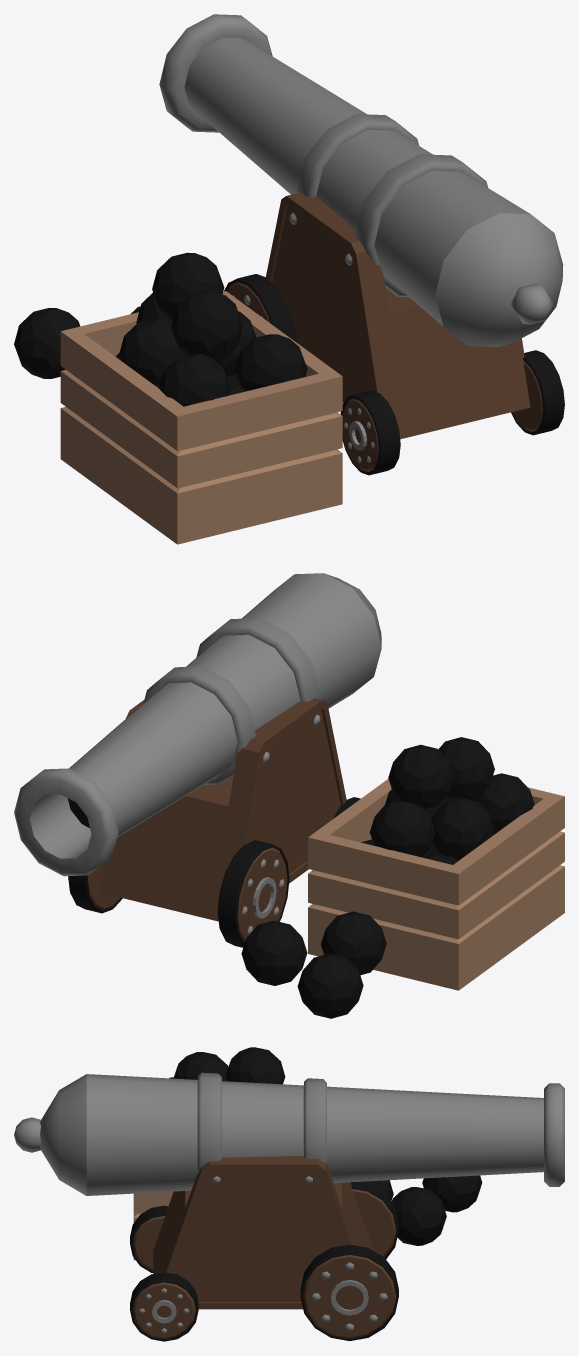
The model's file is Pack_Cannon.fbx.
3 renders of one model, top to bottom at view 1: azimuth 30°, elevation 25°; view 2: azimuth 150°, elevation 25°; view 3: azimuth 270°, elevation 25°, orthographic. The views are drawn at different scales.
Parts seen in each view (by area): view 1: Pack_Cannon1; view 2: Pack_Cannon1; view 3: Pack_Cannon1.
Boxes of the visible parts, x1=… form: Pack_Cannon1: x1=14, y1=14, x2=564, y2=544; Pack_Cannon1: x1=14, y1=573, x2=564, y2=1018; Pack_Cannon1: x1=14, y1=1047, x2=564, y2=1341.
Bounding box in the file's own units: 1.56 × 1.08 × 2.31.
